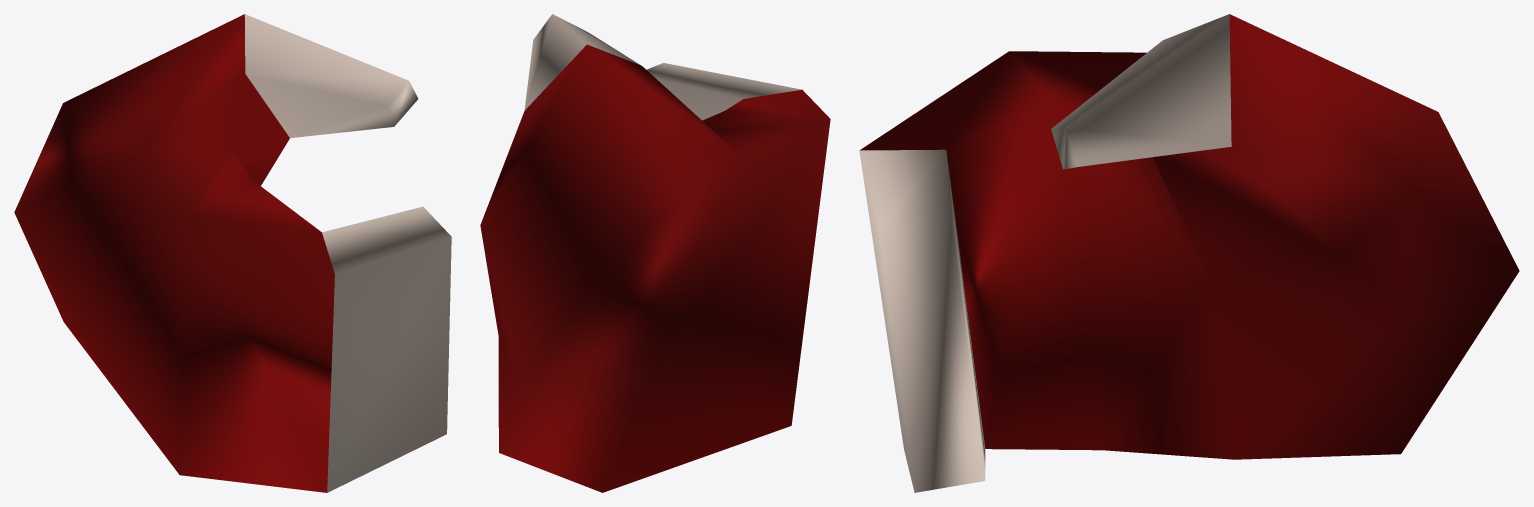
File: doga.hrc.gltf
3 renders of one model, left to right at view 1: azimuth 30°, elevation 25°; view 2: azimuth 150°, elevation 25°; view 3: azimuth 270°, elevation 25°, orthographic. The views are drawn at different scales.
Parts seen in each view (by area): view 1: dogaBone0_null; view 2: dogaBone0_null; view 3: dogaBone0_null.
Part boxes in pixels (bbox=[...]): dogaBone0_null: bbox=[14, 14, 451, 492]; dogaBone0_null: bbox=[480, 14, 830, 492]; dogaBone0_null: bbox=[859, 14, 1519, 492].
Size of the model in its own units: 2.85 by 4.03 by 5.06.
